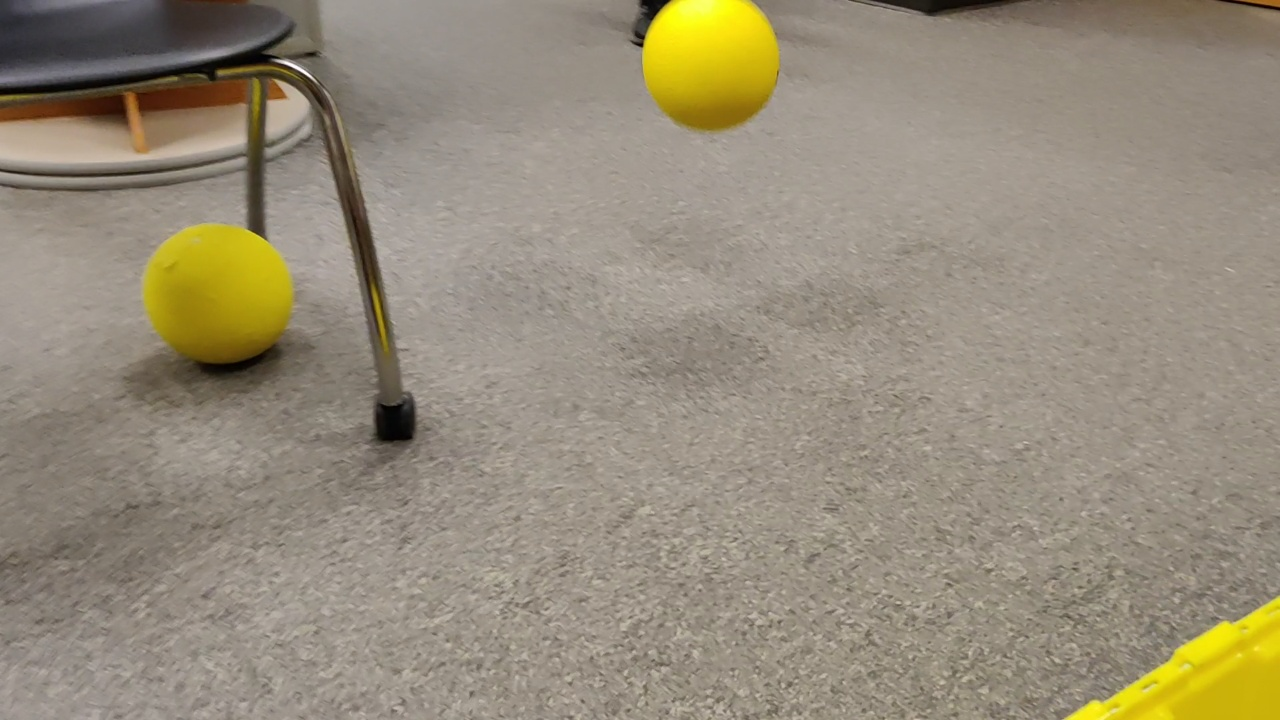Ball: (123, 218, 300, 375), (630, 1, 782, 136)
